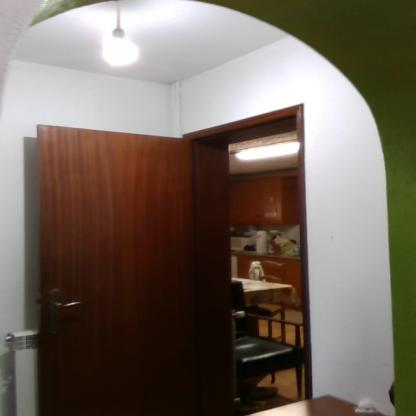open: (19, 89, 333, 416)
